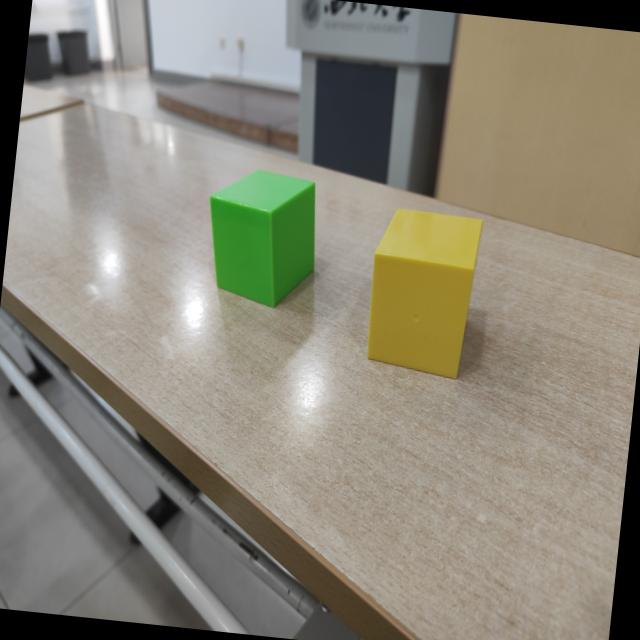green: (208, 170, 316, 308)
yellow: (365, 208, 482, 380)
